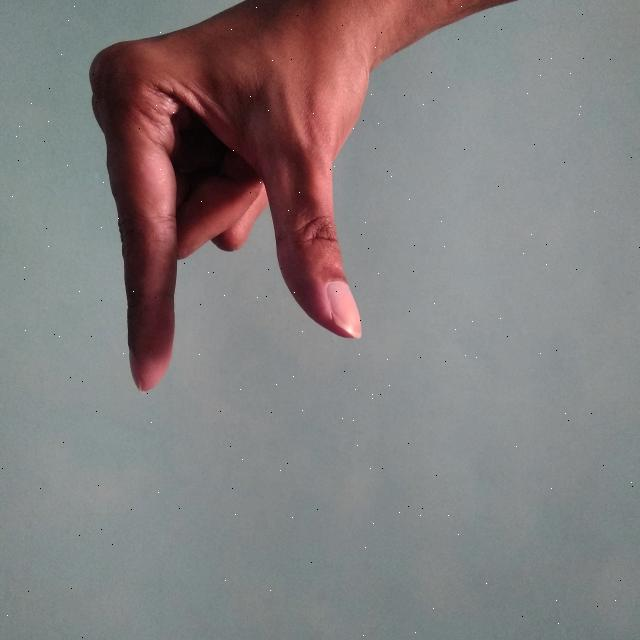Q: (76, 0, 522, 397)
